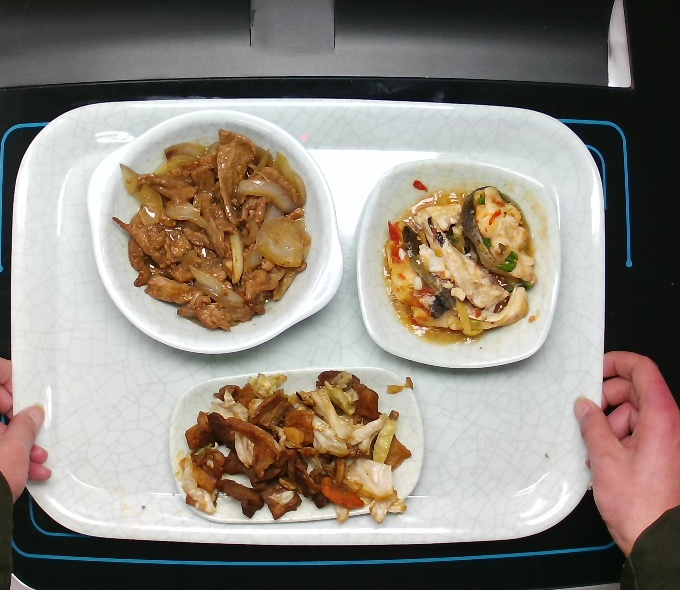wcq-DuoJiaoYuKuai: (375, 191, 538, 343)
wcq-PaoCaiRouPian: (181, 388, 423, 514)
wcq-YangCongRouPian: (127, 129, 309, 324)
